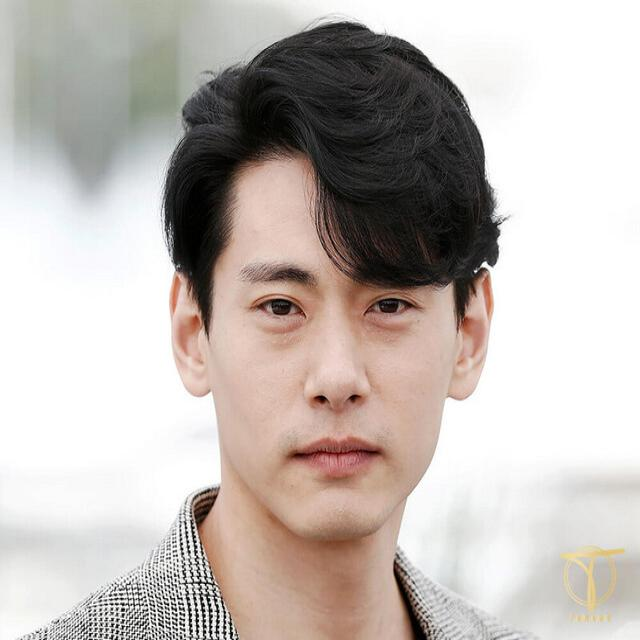Nonhelmet: (139, 9, 525, 554)
